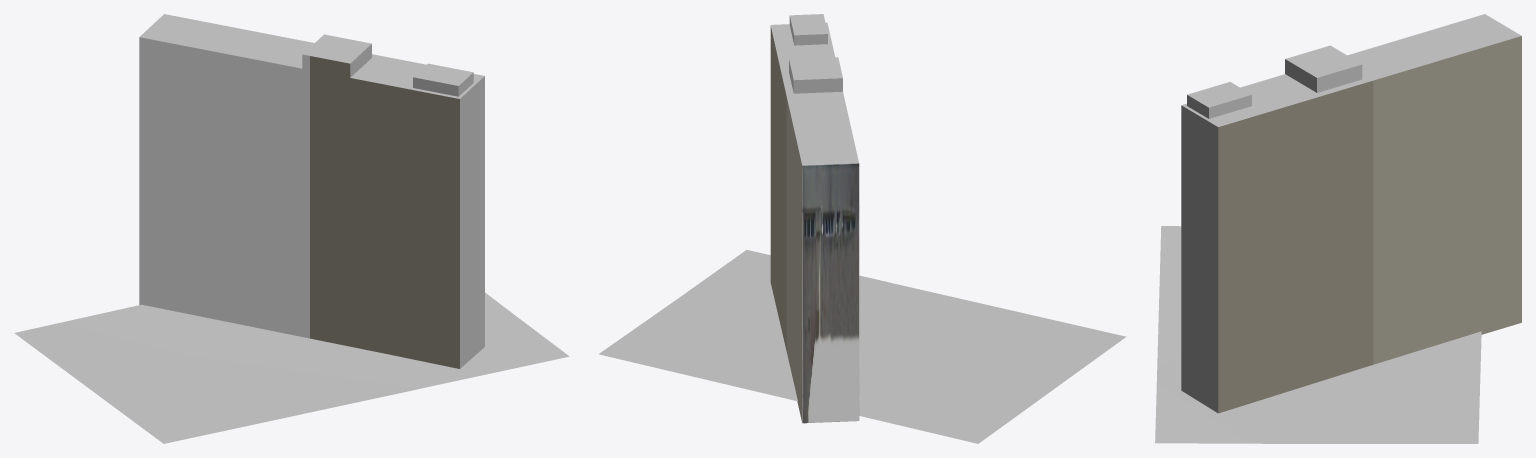
File: Edifício+centro+4 (1).fbx
The picture shows the model from 3 angles, left to right: view 1: azimuth 30°, elevation 25°; view 2: azimuth 150°, elevation 25°; view 3: azimuth 270°, elevation 25°; orthographic projection. The views are drawn at different scales.
Parts seen in each view (by area): view 1: Model, Google_Earth_Terrain; view 2: Google_Earth_Terrain, Model; view 3: Model, Google_Earth_Terrain.
Part boxes in pixels (<box>): Model: <box>139,14,484,368</box>; Google_Earth_Terrain: <box>14,292,569,443</box>; Google_Earth_Terrain: <box>599,250,1126,443</box>; Model: <box>770,14,859,423</box>; Model: <box>1181,14,1521,413</box>; Google_Earth_Terrain: <box>1155,226,1481,443</box>.
Bounding box in the file's own units: 54.38 × 36.62 × 40.21.
